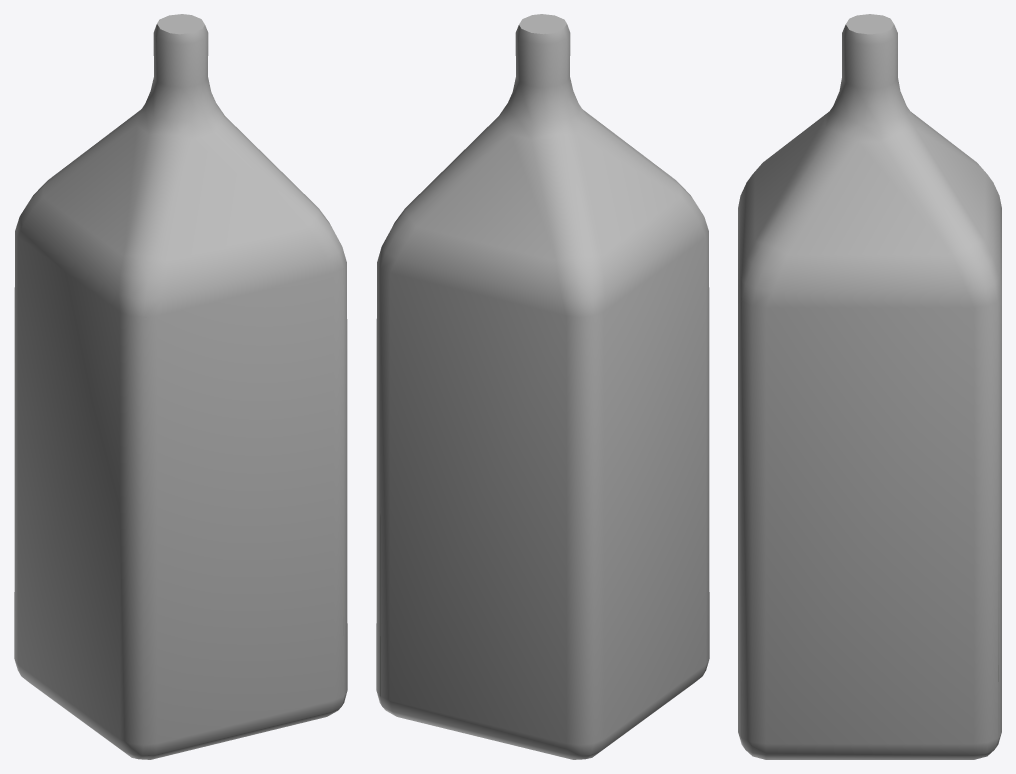
File: waterbottle.fbx
3 views of the same model, side by side, from view 1: azimuth 30°, elevation 25°; view 2: azimuth 150°, elevation 25°; view 3: azimuth 270°, elevation 25° (orthographic). The views are drawn at different scales.
Visible parts, largest first — view 1: waterbottle; view 2: waterbottle; view 3: waterbottle.
Boxes of the visible parts, x1,y1,x2,y2 form: waterbottle: (14, 14, 347, 759); waterbottle: (376, 14, 709, 759); waterbottle: (738, 14, 1001, 759).
Size of the model in its own units: 30.2 by 87.02 by 30.2.
